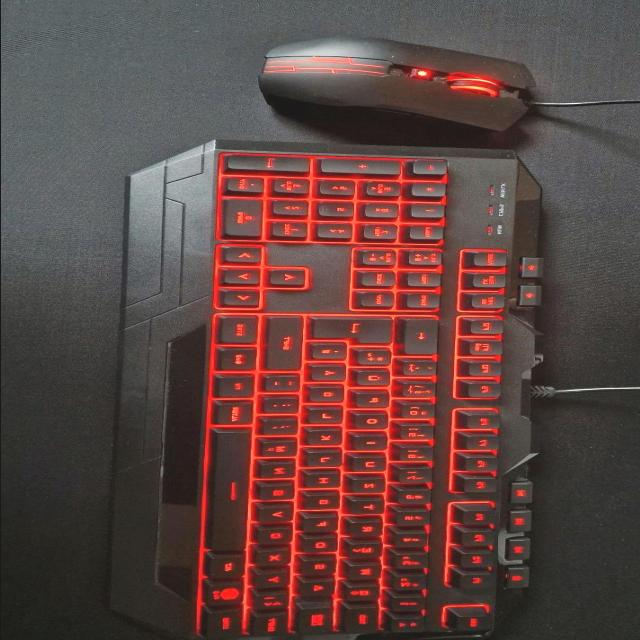0: (400, 404, 440, 421)
1: (392, 599, 429, 613)
2: (391, 576, 429, 592)
3: (391, 555, 429, 569)
4: (395, 534, 433, 548)
5: (397, 512, 435, 527)
6: (398, 491, 436, 507)
7: (397, 468, 437, 486)
8: (395, 444, 438, 464)
9: (400, 426, 438, 443)
a: (300, 583, 338, 599)
accent: (401, 360, 441, 378)
ae: (311, 364, 351, 383)
alt-left: (208, 556, 250, 580)
altgr-right: (215, 401, 258, 427)
b: (259, 482, 299, 502)
c: (259, 529, 297, 545)
caret: (395, 620, 427, 634)
comma: (262, 417, 302, 437)
d: (303, 539, 343, 555)
del: (403, 319, 441, 357)
e: (348, 544, 386, 560)
enter: (312, 318, 398, 346)
f: (304, 519, 342, 533)
g: (305, 495, 345, 511)
h: (306, 473, 346, 490)
hash: (311, 343, 351, 363)
i: (354, 436, 392, 452)
j: (308, 451, 345, 468)
k: (307, 428, 347, 448)
keyboard: (103, 141, 545, 640)
l: (308, 408, 348, 426)
less: (256, 594, 292, 611)
m: (259, 439, 302, 459)
minus: (266, 375, 304, 394)
n: (259, 462, 301, 481)
o: (355, 413, 393, 431)
oe: (309, 386, 349, 404)
p: (355, 391, 393, 410)
plus: (356, 350, 396, 368)
point: (263, 395, 303, 415)
q: (346, 588, 382, 604)
r: (348, 522, 386, 539)
s: (303, 561, 340, 577)
shift-left: (252, 614, 288, 637)
shift-lock: (296, 604, 334, 635)
shift-right: (267, 318, 307, 372)
space: (212, 431, 254, 552)
ss: (400, 381, 440, 400)
strg-left: (203, 611, 241, 639)
strg-right: (219, 316, 263, 347)
t: (350, 500, 388, 516)
tab: (346, 609, 384, 636)
u: (353, 456, 391, 473)
ue: (356, 370, 394, 388)
v: (258, 504, 298, 524)
w: (348, 566, 385, 582)
x: (257, 551, 295, 566)
y: (254, 571, 294, 590)
z: (353, 478, 390, 495)
